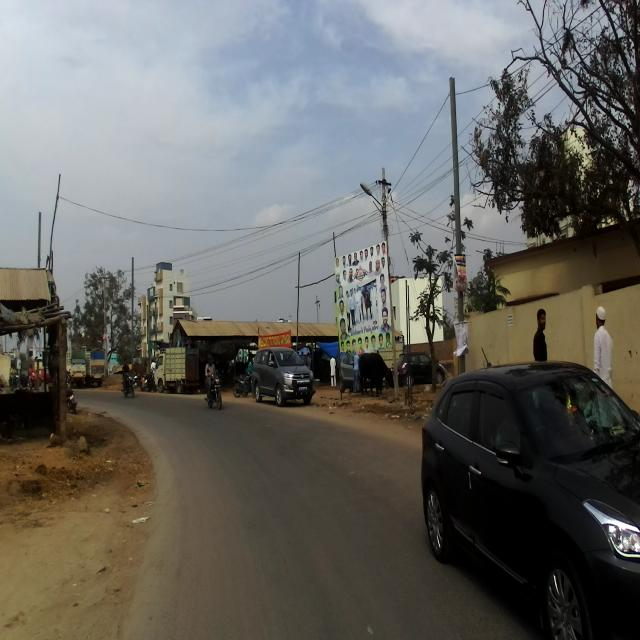car ahead at: (422, 368, 640, 640), (248, 344, 313, 404)
